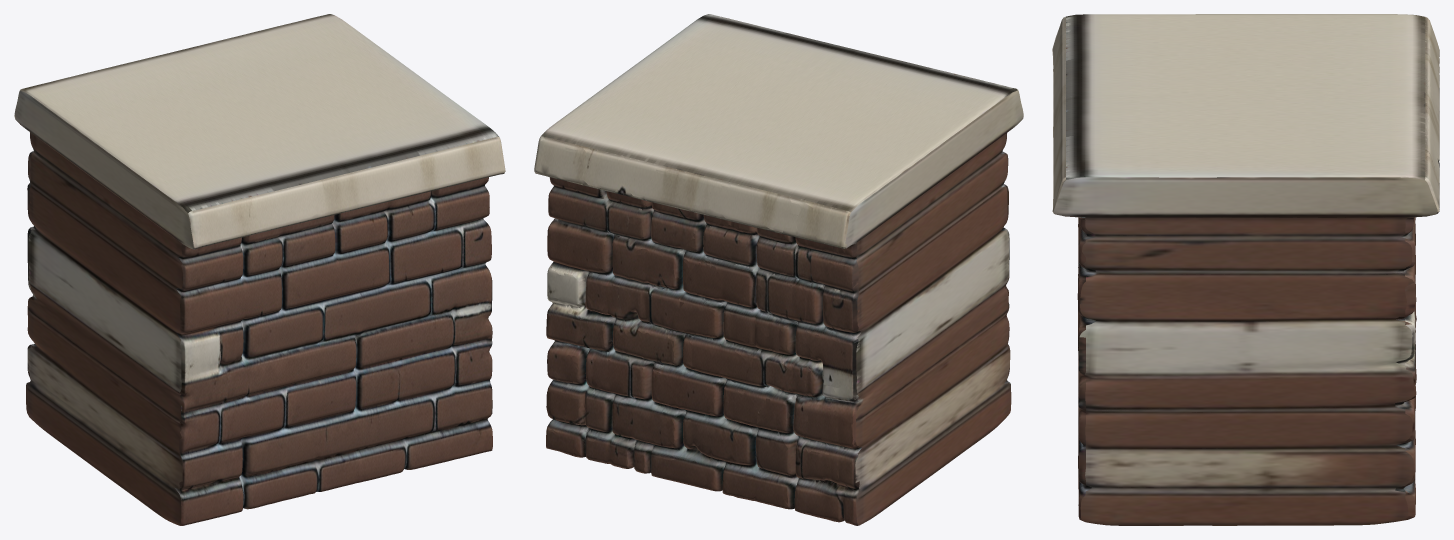
File: wall-brick-half.glb
3 views of the same model, side by side, from view 1: azimuth 30°, elevation 25°; view 2: azimuth 150°, elevation 25°; view 3: azimuth 270°, elevation 25° (orthographic). The views are drawn at different scales.
Parts seen in each view (by area): view 1: tmp1ucp8k7f.ply; view 2: tmp1ucp8k7f.ply; view 3: tmp1ucp8k7f.ply.
Boxes of the visible parts, box(x1,y1,x2,y2) form: tmp1ucp8k7f.ply: box(14, 14, 505, 525); tmp1ucp8k7f.ply: box(534, 14, 1023, 525); tmp1ucp8k7f.ply: box(1052, 14, 1439, 525).
Bounding box in the file's own units: 1 × 1 × 1.
1 material, 1 textured.
